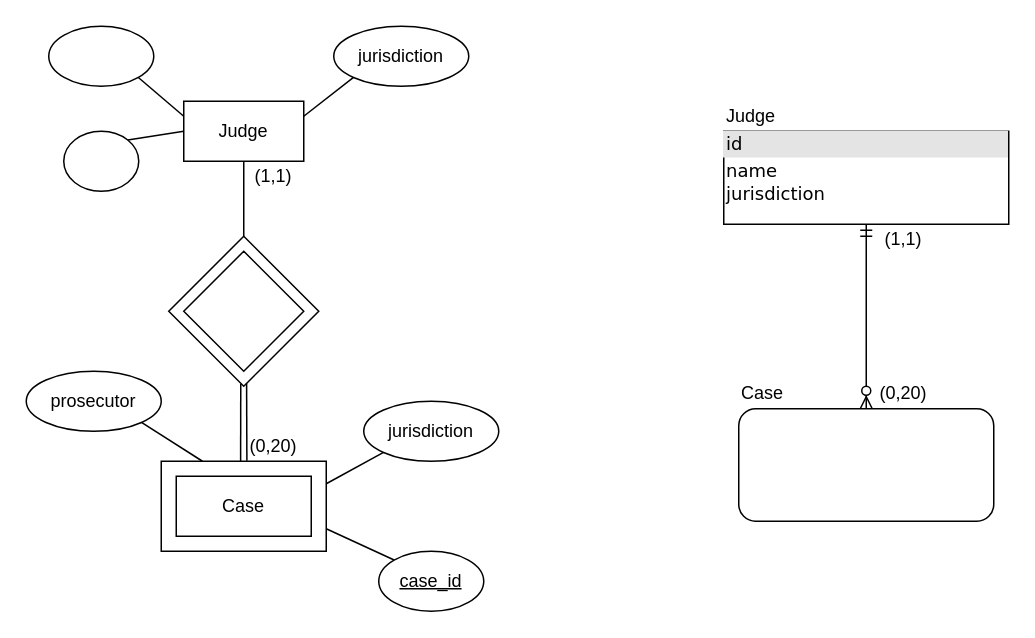
This 1035x638 diagram has some shape labels left out. The centre of each missing label's shape, as x and y in pixels:
"case_id judge_id (FK) prosecutor jurisdiction" belongs at (865,464).
"id" belongs at (100,160).
"name" belongs at (100,55).
"Presides Over" belongs at (243,310).
